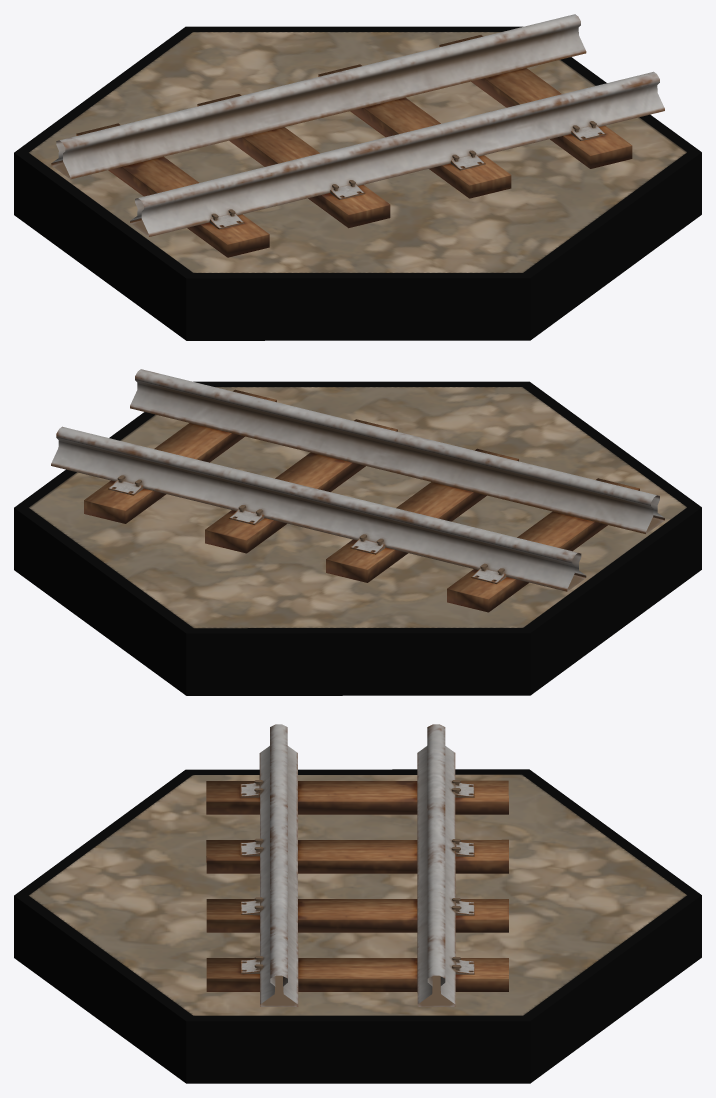
The model's file is trilho_reto.fbx.
3 views of the same model, one above another, from view 1: azimuth 30°, elevation 25°; view 2: azimuth 150°, elevation 25°; view 3: azimuth 270°, elevation 25° (orthographic).
Parts seen in each view (by area): view 1: trilho_reto; view 2: trilho_reto; view 3: trilho_reto.
Boxes of the visible parts, left/top/right/bottom form: trilho_reto: left=14, top=14, right=701, bottom=340; trilho_reto: left=14, top=369, right=701, bottom=695; trilho_reto: left=14, top=724, right=701, bottom=1083.
Size of the model in its own units: 173 by 34.61 by 200.
